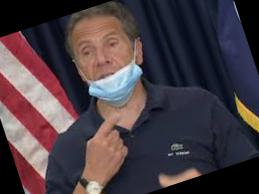mask_weared_incorrect: (73, 24, 146, 102)
